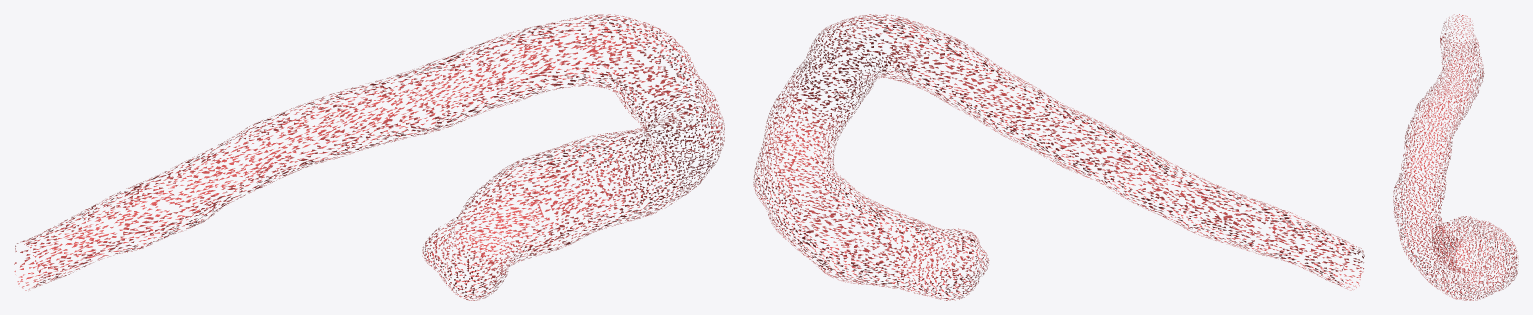
Rendered from aorta.glb.
3 views of the same model, side by side, from view 1: azimuth 30°, elevation 25°; view 2: azimuth 150°, elevation 25°; view 3: azimuth 270°, elevation 25° (orthographic). The views are drawn at different scales.
Bounding box in the file's own units: 286 × 110 × 68.68.
